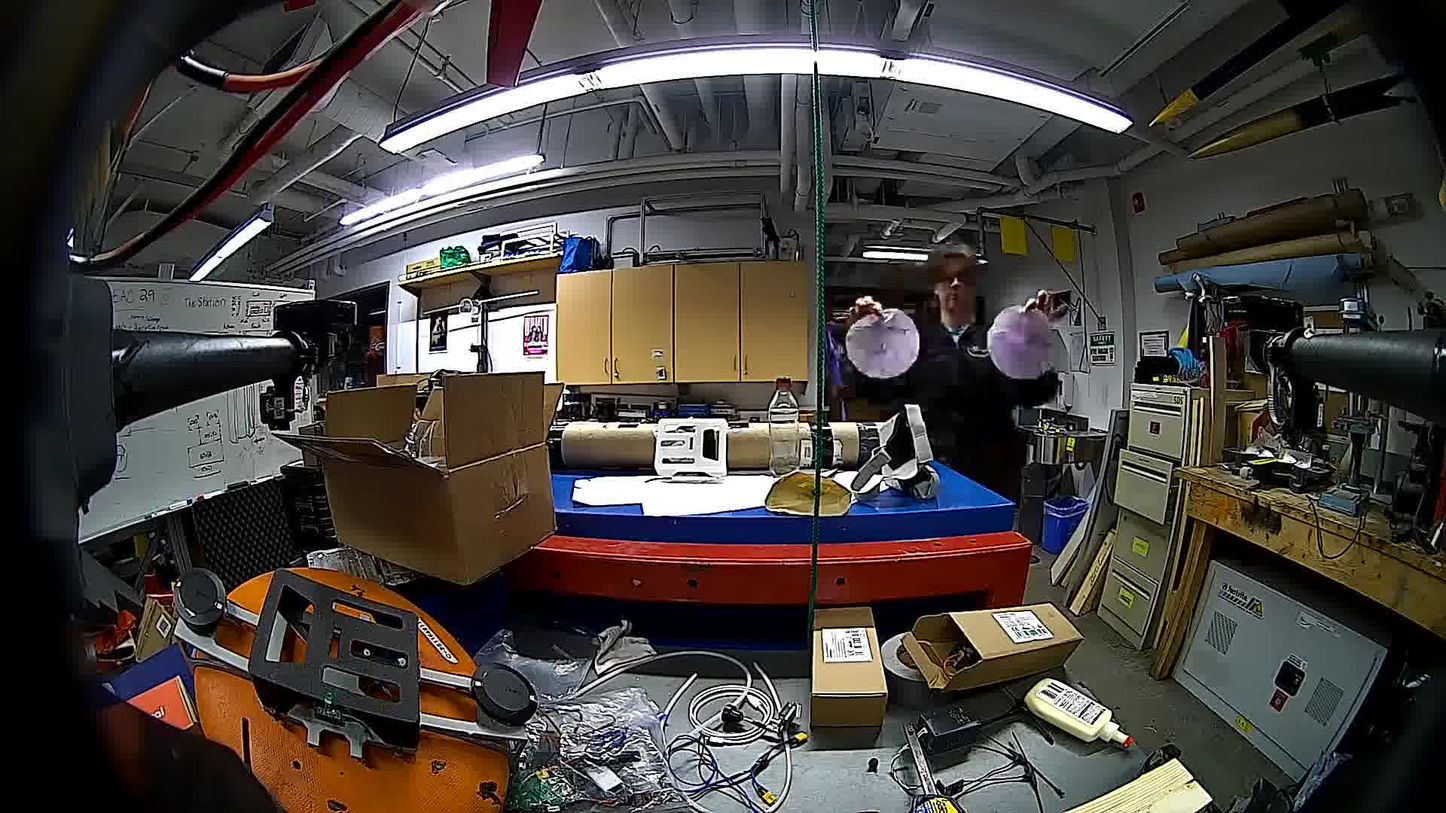Target: (847, 312, 916, 375), (990, 311, 1053, 377)
